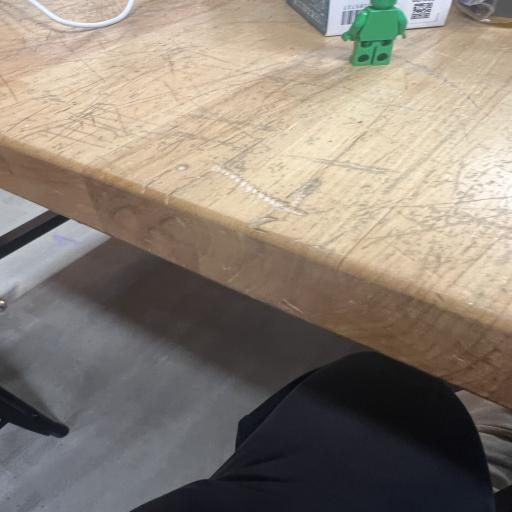green-lego-minifigure-detector: (342, 0, 407, 66)
